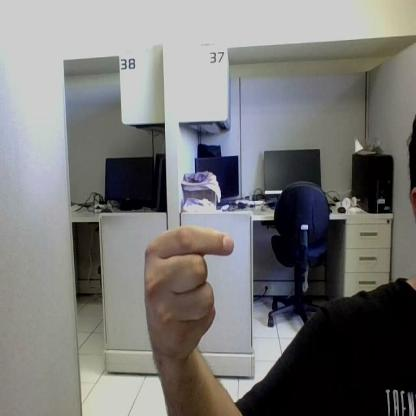G: (144, 226, 234, 357)
